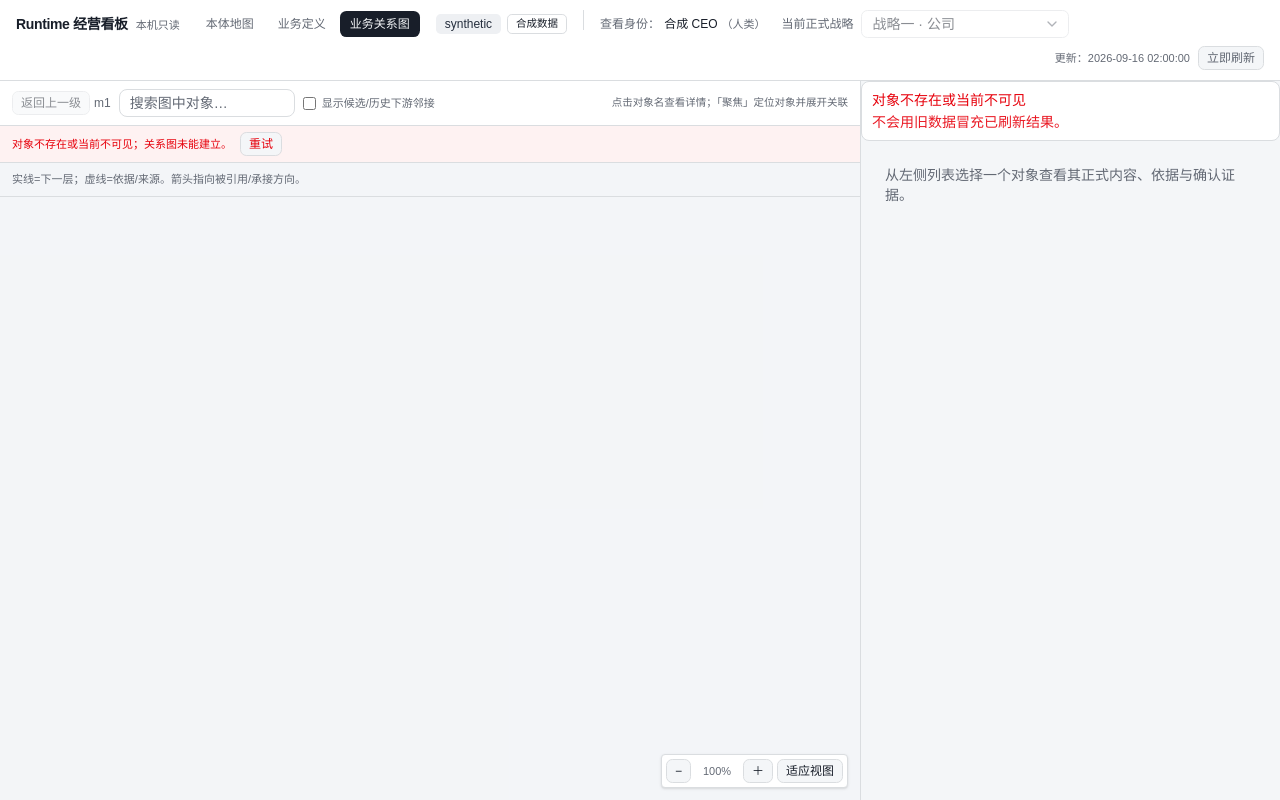
Test case: not found and recovery › a 404 on one object stays local and the next successful read restores it
The image size is (1280, 800).
Expected: the text "对象不存在或当前不可见" is shown, [872, 92, 1026, 108]
Click the button "立即刷新" at (1231, 58), box [1198, 46, 1264, 70]
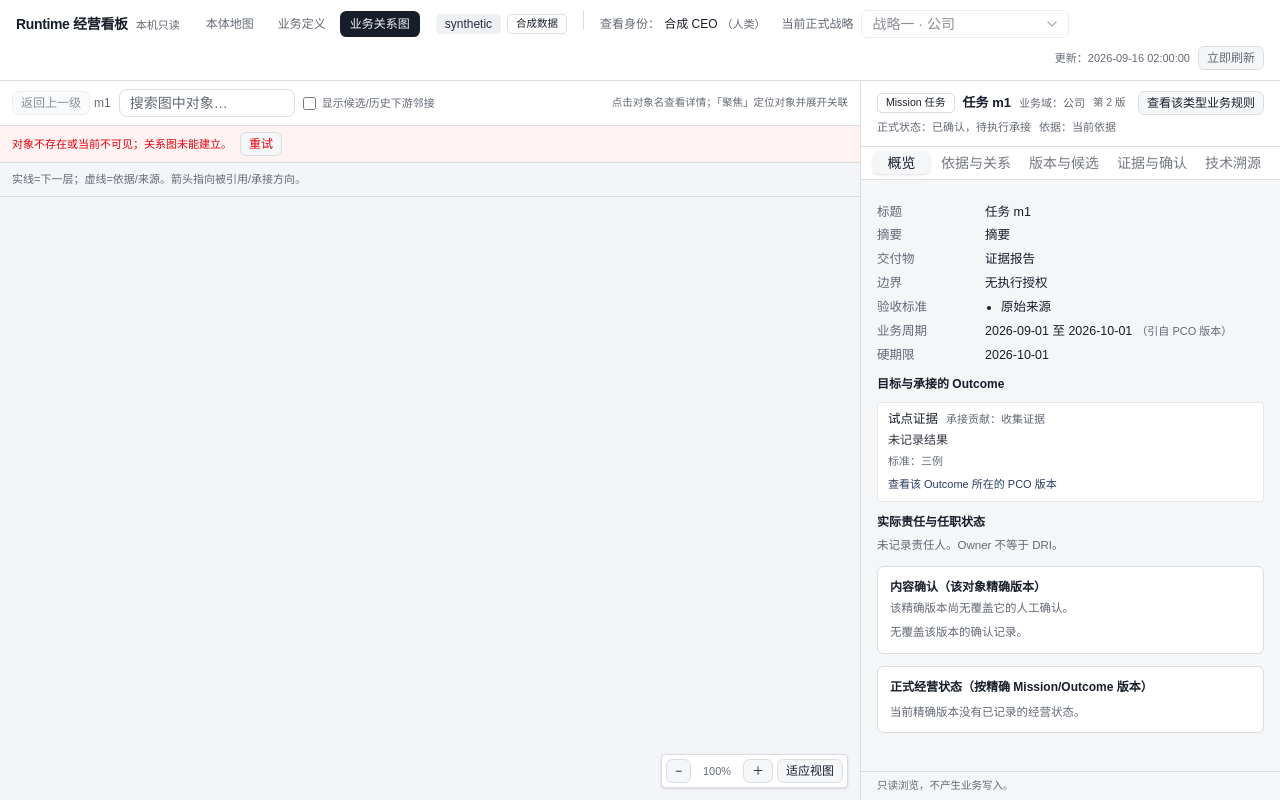
Result: the element with test id "detail-pane" is shown at [861, 81, 1279, 799]
